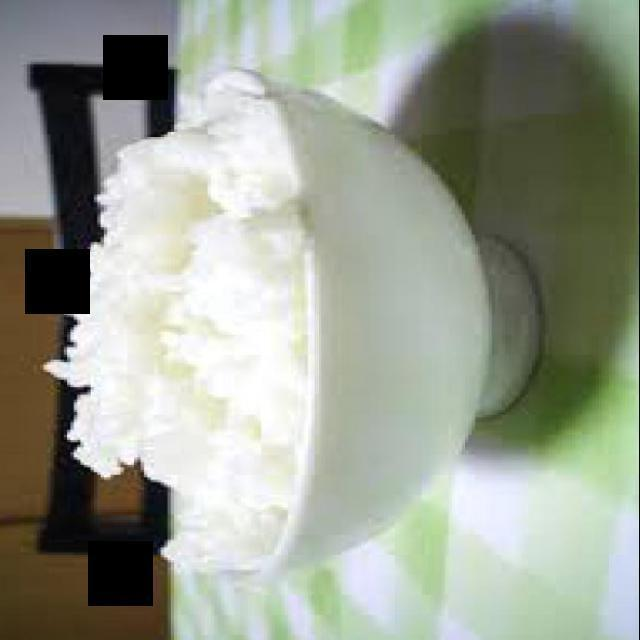Chicken -Chicken Inasal-: (48, 90, 308, 568)
